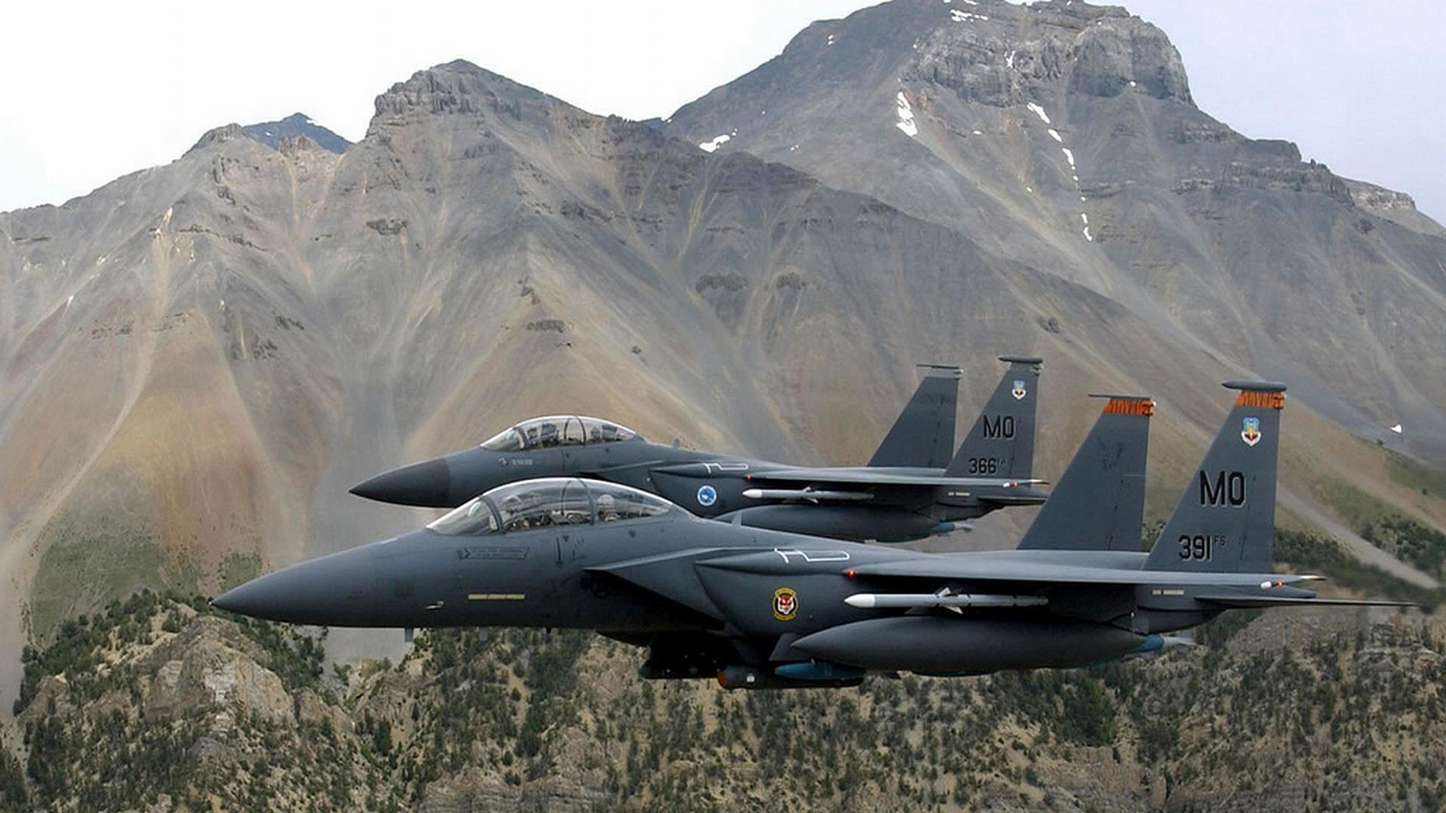aircraft: (234, 369, 1330, 687)
